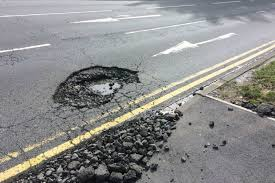pothole: (18, 110, 189, 183), (51, 64, 144, 110), (219, 64, 275, 116)
